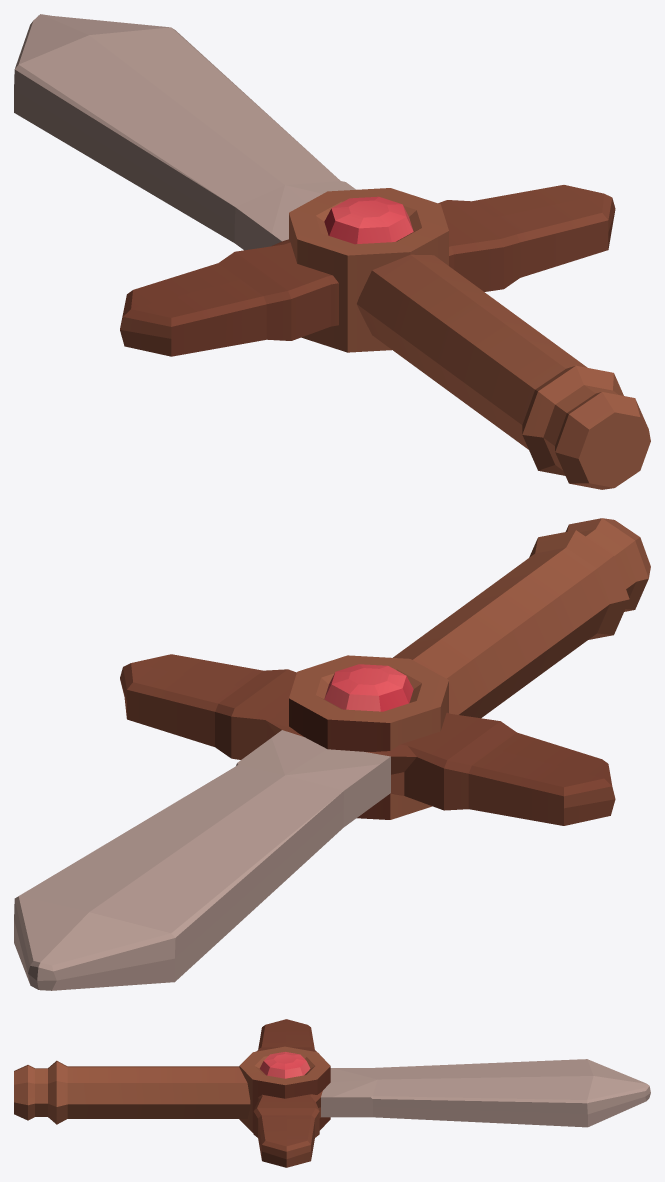
File: sword2.glb
3 views of the same model, one above another, from view 1: azimuth 30°, elevation 25°; view 2: azimuth 150°, elevation 25°; view 3: azimuth 270°, elevation 25° (orthographic). The views are drawn at different scales.
Visible parts, largest first — view 1: Sword; view 2: Sword; view 3: Sword.
Part boxes in pixels (x1=…): Sword: x1=14, y1=14, x2=650, y2=489; Sword: x1=14, y1=518, x2=650, y2=990; Sword: x1=14, y1=1019, x2=650, y2=1167.
Bounding box in the file's own units: 3.46 × 0.7817 × 6.98.
Materials: 2 (1 with a texture image).
